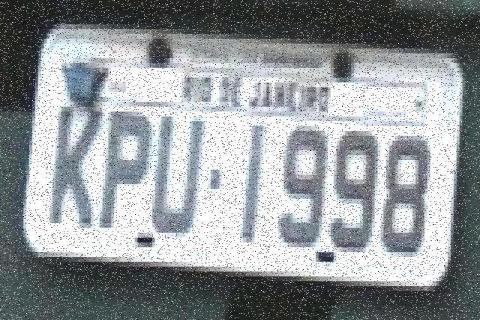LicensePlate: (18, 0, 472, 302)
